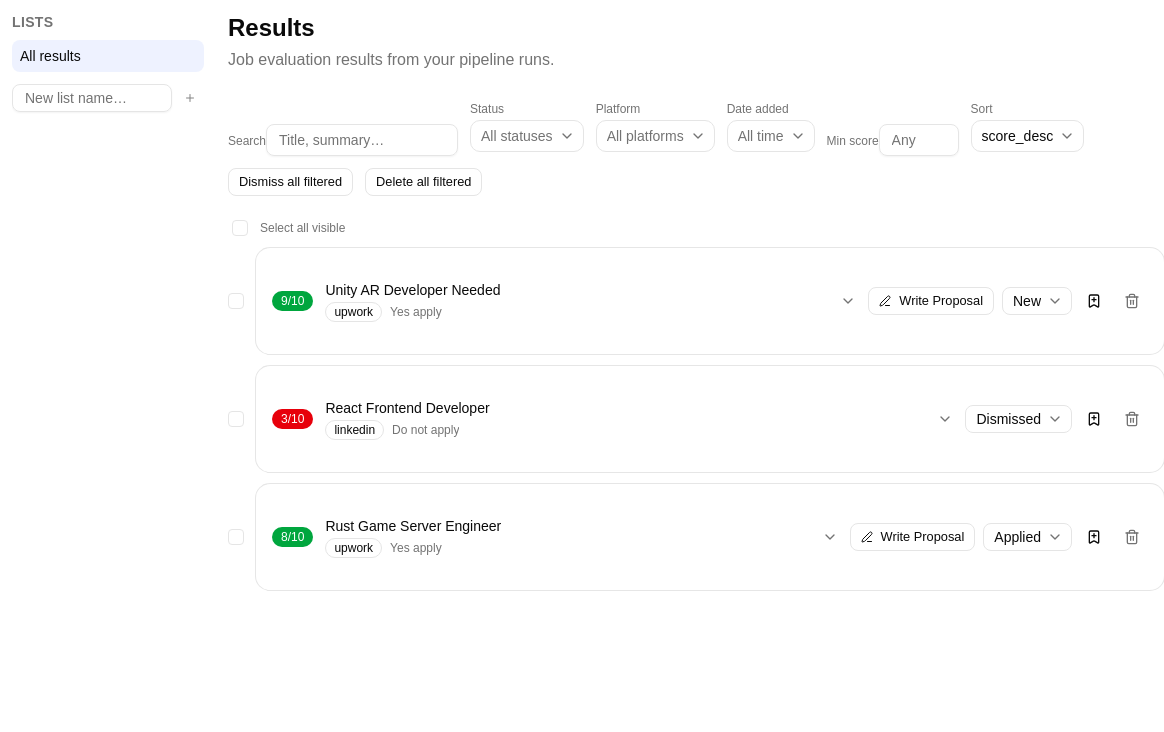
Test case: ResultsPage › clears filters with Clear filters button
Check: the text "Unity AR Developer Needed" is shown, box [325,282,500,298]
Note: Apply a filter
Type "7" into the number field with placeholder "Any" at (919, 140), box [879,124,959,156]
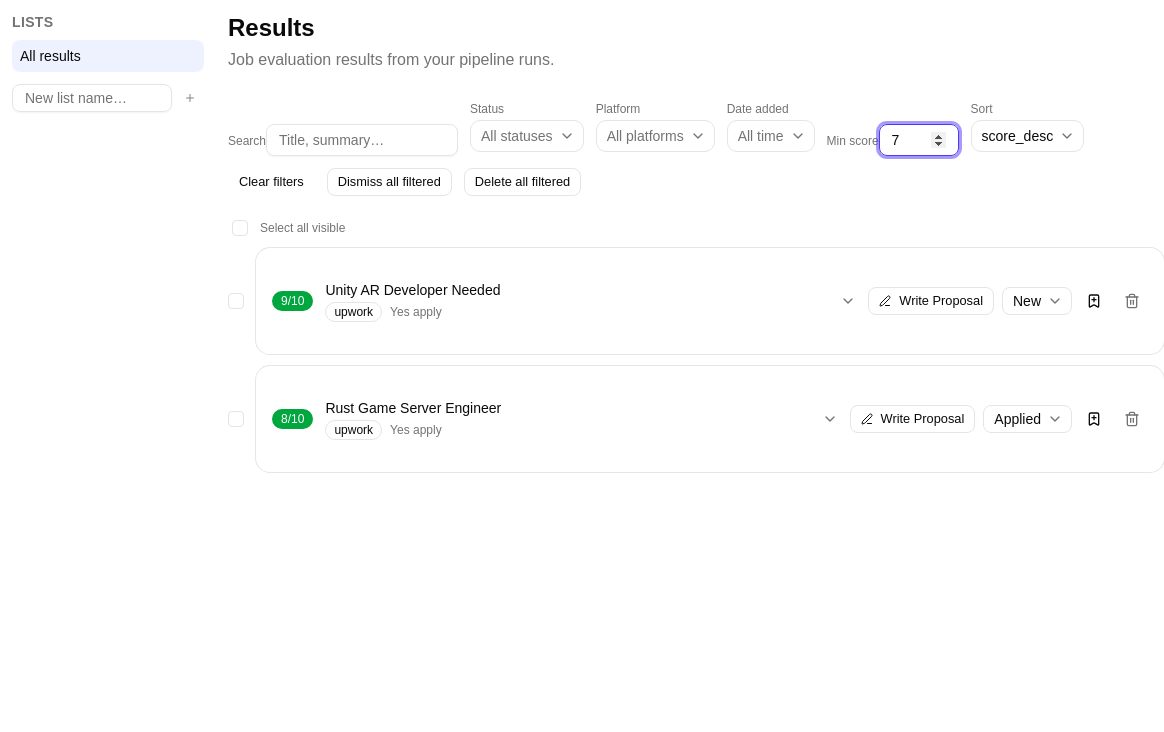
Check: the button "React Frontend Developer" is gone
Note: Clear filters button should appear
Click the button "Clear filters" at (271, 182), box [228,168,315,196]
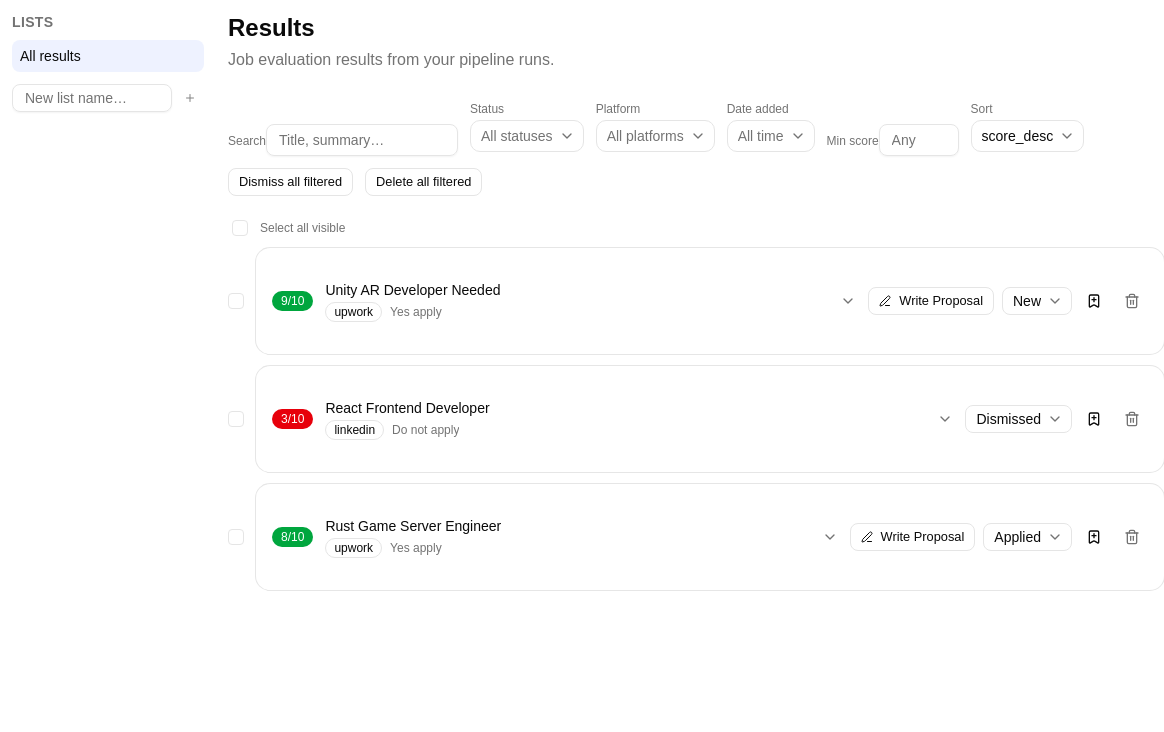
Check: the text "Unity AR Developer Needed" is shown, box [325,282,500,298]
Check: the text "React Frontend Developer" is shown, box [325,400,490,416]
